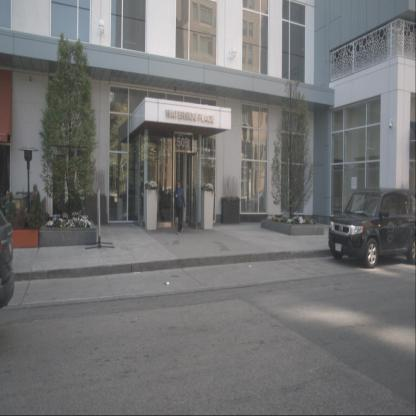human-pedestrian-adult: (174, 180, 186, 235)
vehicle-car: (328, 186, 416, 269), (0, 206, 15, 314), (246, 189, 285, 214), (119, 185, 144, 204)
